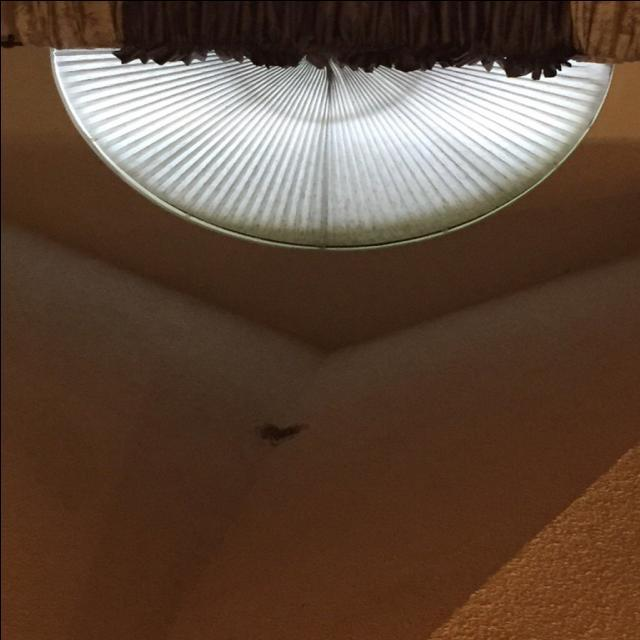Crack: (254, 417, 308, 442)
